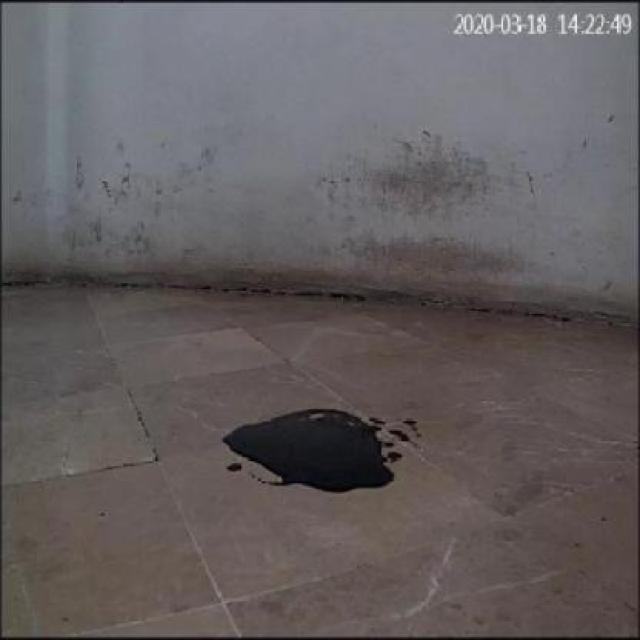spillage: (225, 395, 400, 490)
